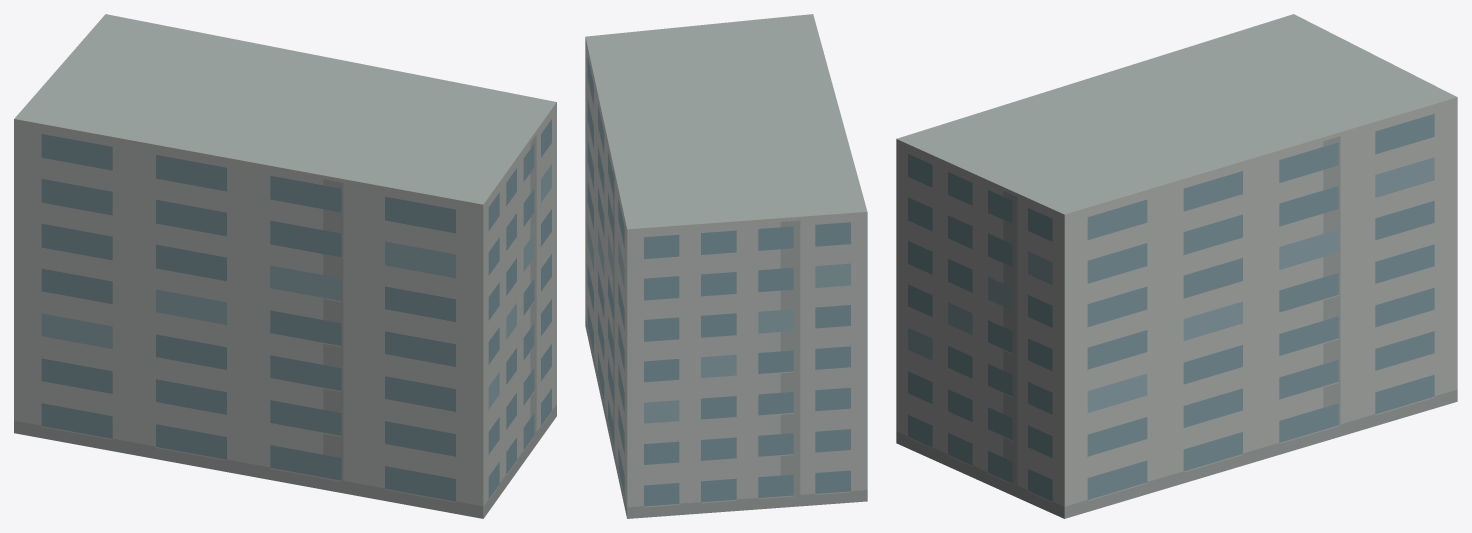
Rendered from survey-upis-32683961.glb.
The picture shows the model from 3 angles, left to right: view 1: azimuth 30°, elevation 25°; view 2: azimuth 150°, elevation 25°; view 3: azimuth 270°, elevation 25°; orthographic projection. The views are drawn at different scales.
Parts seen in each view (by area): view 1: survey-upis-32683961.tmp; view 2: survey-upis-32683961.tmp; view 3: survey-upis-32683961.tmp.
Part boxes in pixels (x1=…): survey-upis-32683961.tmp: x1=14, y1=14, x2=556, y2=518; survey-upis-32683961.tmp: x1=585, y1=14, x2=867, y2=518; survey-upis-32683961.tmp: x1=896, y1=14, x2=1457, y2=518.
Bounding box in the file's own units: 27.14 × 19.2 × 32.11.
